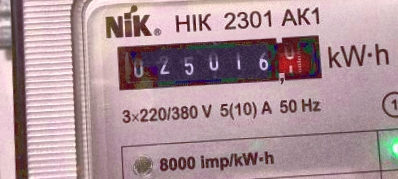0: (207, 48, 222, 72), (131, 56, 145, 78), (282, 39, 295, 60)
1: (232, 46, 244, 71), (286, 62, 294, 74)
2: (157, 52, 171, 75)
5: (182, 53, 194, 75)
6: (256, 47, 270, 73)
screen: (107, 24, 332, 97)
